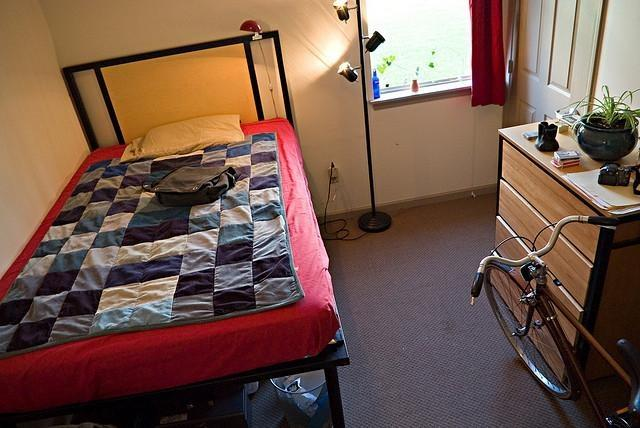bicycle: (470, 214, 640, 423)
